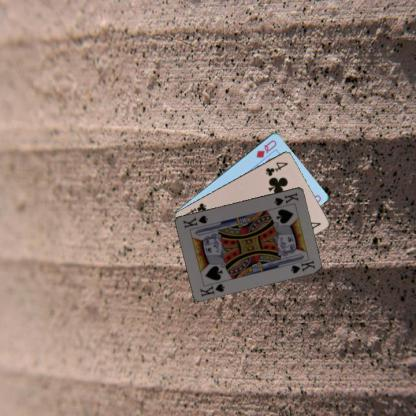4c: (263, 159, 289, 177)
Ks: (198, 280, 226, 298), (271, 190, 300, 207)
Qd: (254, 137, 278, 159)
